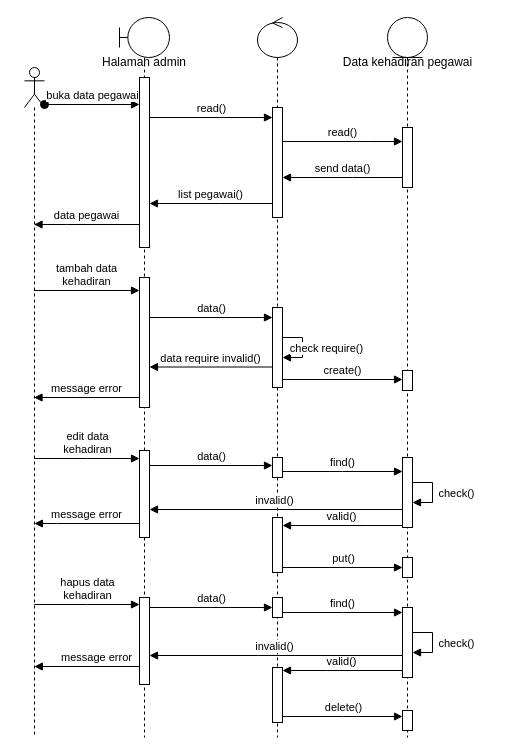
Some shapes in this 512 by 755 pixel diagram are drawn without their labels. Each missing label, with the box of its shape:
Admin: (24, 66, 44, 738)
CRUD proses: (256, 16, 298, 738)
